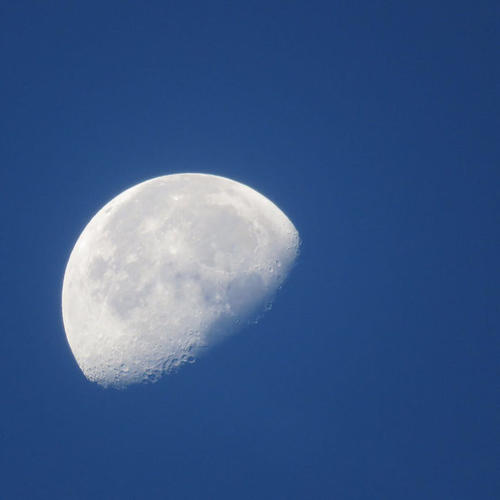moon: (61, 173, 305, 393)
